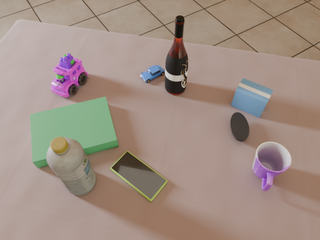book: (30, 97, 118, 168)
bottle: (46, 136, 96, 195), (165, 16, 188, 95)
box: (231, 78, 273, 118)
cup: (253, 142, 291, 191)
mouse: (231, 112, 249, 142)
phone: (111, 151, 167, 201)
toy_car: (51, 54, 88, 97), (140, 65, 165, 83)
